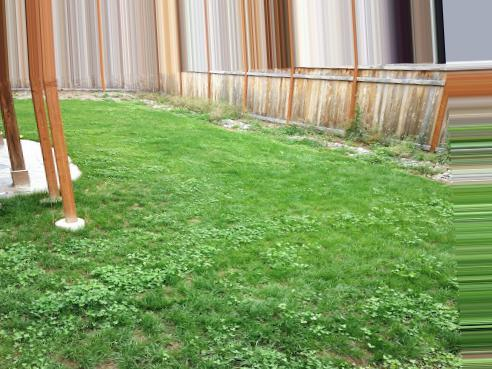patch: (220, 116, 260, 130), (21, 145, 37, 166)
